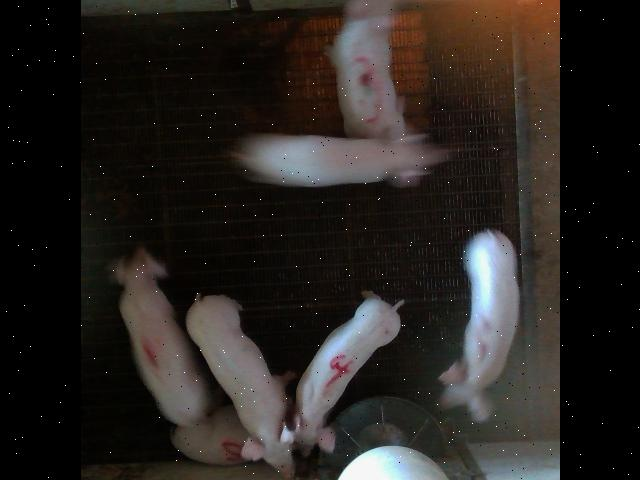pig-1: (109, 246, 209, 426)
pig-2: (438, 230, 518, 422)
pig-3: (326, 0, 407, 140)
pig-4: (280, 291, 402, 455)
pig-5: (170, 405, 247, 465)
